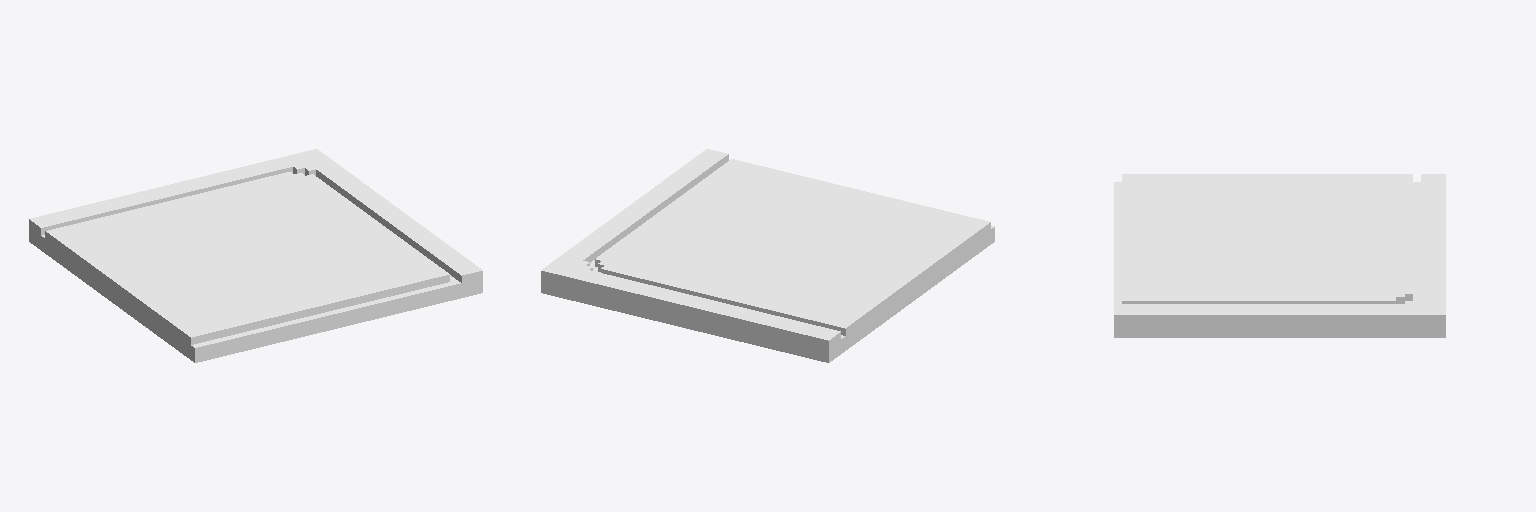
File: SidewalkCorner.obj
The picture shows the model from 3 angles: view 1: azimuth 30°, elevation 25°; view 2: azimuth 150°, elevation 25°; view 3: azimuth 270°, elevation 25°; orthographic projection.
Parts seen in each view (by area): view 1: StraightSidewalk; view 2: StraightSidewalk; view 3: StraightSidewalk.
Boxes of the visible parts, <box> form: StraightSidewalk: <box>29,149,482,362</box>; StraightSidewalk: <box>541,149,994,362</box>; StraightSidewalk: <box>1114,174,1445,337</box>.
Bounding box in the file's own units: 4 × 0.3 × 4.